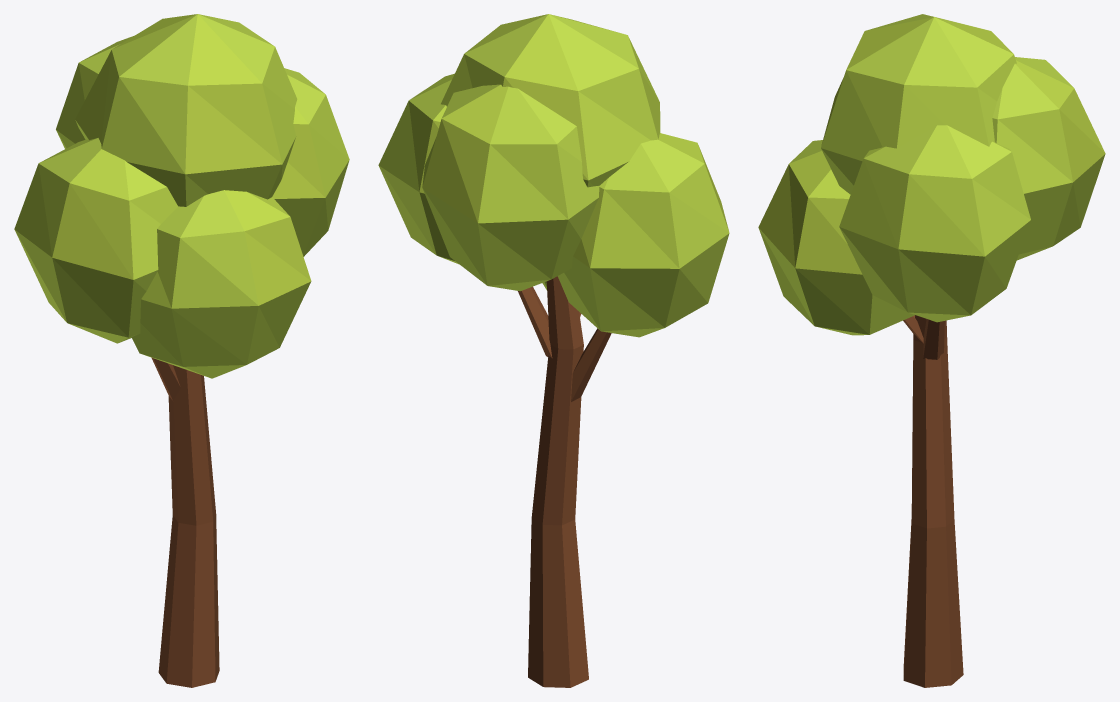
File: tree_broadleaf_b.glb
The picture shows the model from 3 angles, left to right: view 1: azimuth 30°, elevation 25°; view 2: azimuth 150°, elevation 25°; view 3: azimuth 270°, elevation 25°; orthographic projection.
Visible parts, largest first — view 1: tree_broadleaf_b; view 2: tree_broadleaf_b; view 3: tree_broadleaf_b.
Part boxes in pixels (bbox=[...]): tree_broadleaf_b: bbox=[14, 14, 349, 687]; tree_broadleaf_b: bbox=[378, 14, 729, 687]; tree_broadleaf_b: bbox=[758, 14, 1105, 687].
Size of the model in its own units: 0.88 by 1.8 by 0.8551.
